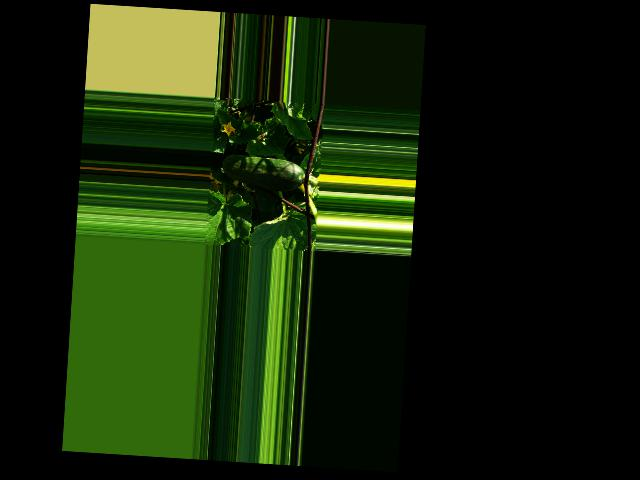cucumber: (220, 153, 305, 194)
